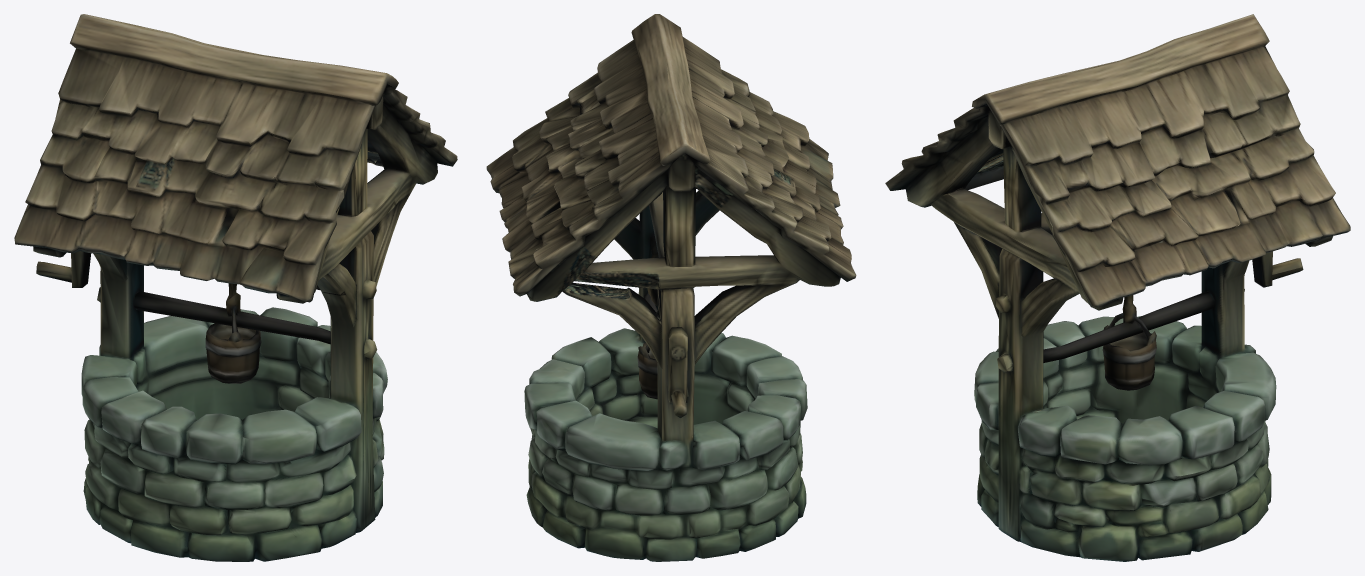
3 renders of one model, left to right at view 1: azimuth 30°, elevation 25°; view 2: azimuth 150°, elevation 25°; view 3: azimuth 270°, elevation 25°, orthographic. The views are drawn at different scales.
Parts seen in each view (by area): view 1: repaired; view 2: repaired; view 3: repaired.
Part boxes in pixels (left/top/right/bottom): repaired: left=14, top=14, right=457, bottom=561; repaired: left=486, top=14, right=856, bottom=561; repaired: left=885, top=14, right=1350, bottom=561.
Bounding box in the file's own units: 0.9582 × 1 × 0.9457.
1 material, 1 textured.
